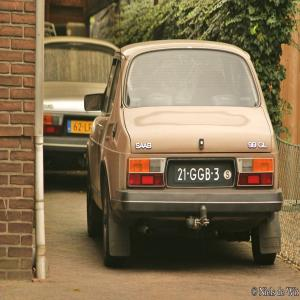Vehicle-registration-plate: (163, 158, 241, 200), (68, 121, 95, 135)
